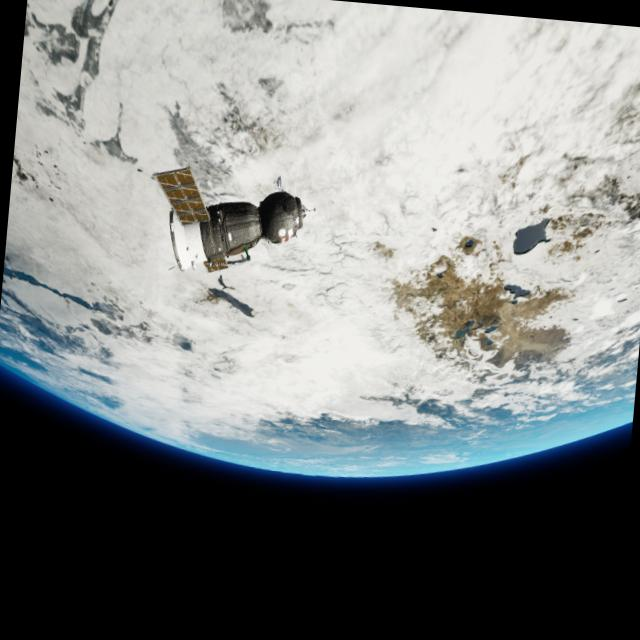Satellites revolving around earth: (0, 0, 640, 502), (141, 160, 312, 285)
